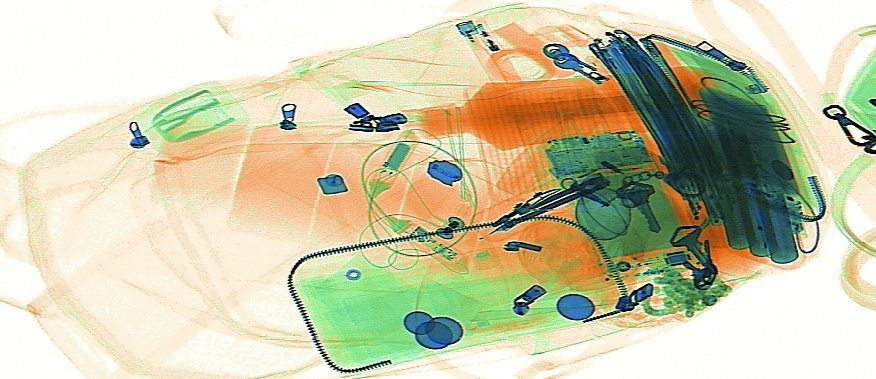lighter: (453, 17, 522, 87)
powerbank: (687, 118, 807, 270)
